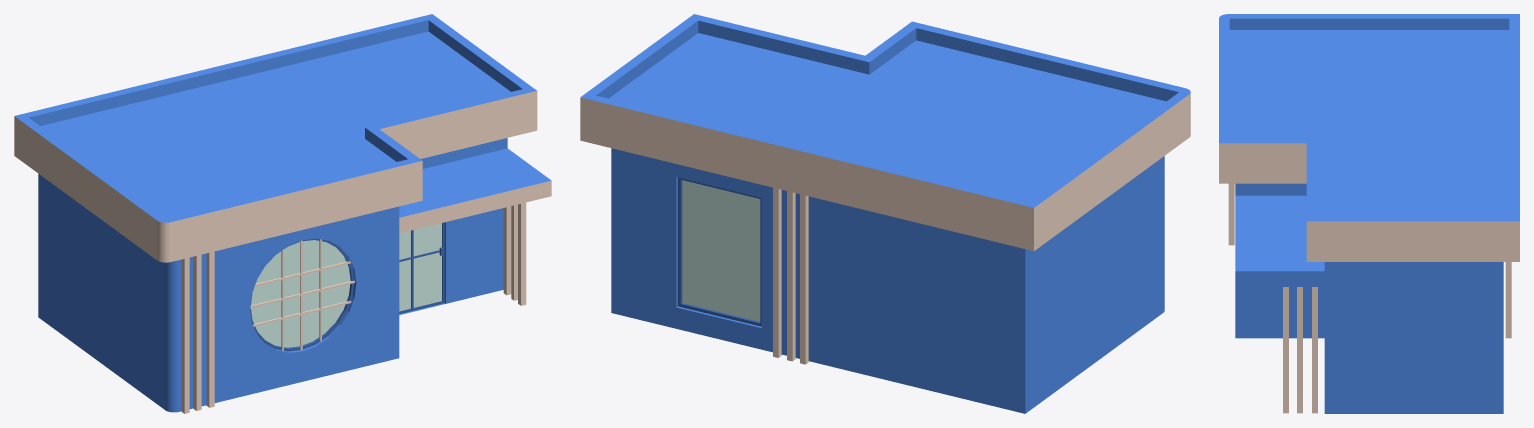
The model's file is Casa2.fbx.
3 renders of one model, left to right at view 1: azimuth 30°, elevation 25°; view 2: azimuth 150°, elevation 25°; view 3: azimuth 270°, elevation 25°, orthographic. The views are drawn at different scales.
Parts seen in each view (by area): view 1: police_station; view 2: police_station; view 3: police_station.
Part boxes in pixels (x1=…): police_station: x1=14, y1=14, x2=551, y2=413; police_station: x1=580, y1=14, x2=1190, y2=413; police_station: x1=1219, y1=14, x2=1519, y2=413.
Bounding box in the file's own units: 952 × 435 × 584.
